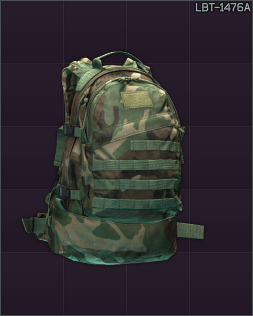LBT-1476A 3Day Pack Woodland: (0, 0, 253, 316)
